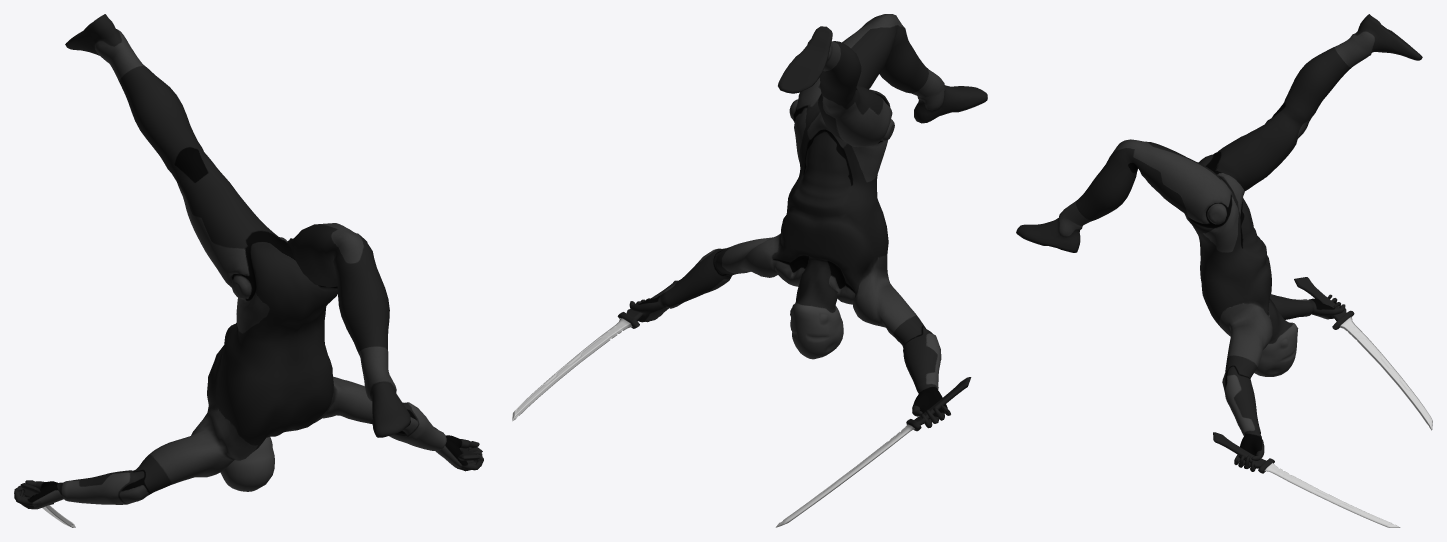
3 views of the same model, side by side, from view 1: azimuth 30°, elevation 25°; view 2: azimuth 150°, elevation 25°; view 3: azimuth 270°, elevation 25° (orthographic). The views are drawn at different scales.
Parts seen in each view (by area): view 1: Cyborg_Ninja_Killer; view 2: Cyborg_Ninja_Killer, Sword_l, Sword_l001; view 3: Cyborg_Ninja_Killer, Sword_l001, Sword_l.
Boxes of the visible parts, left/top/right/bottom form: Cyborg_Ninja_Killer: left=14, top=14, right=483, bottom=509; Cyborg_Ninja_Killer: left=629, top=14, right=987, bottom=428; Sword_l: left=512, top=280, right=677, bottom=421; Sword_l001: left=775, top=377, right=971, bottom=527; Cyborg_Ninja_Killer: left=1016, top=14, right=1422, bottom=471; Sword_l001: left=1294, top=277, right=1432, bottom=430; Sword_l: left=1213, top=432, right=1400, bottom=527.
Bounding box in the file's own units: 170 × 190 × 175.
Materials: 2 (2 with a texture image).
